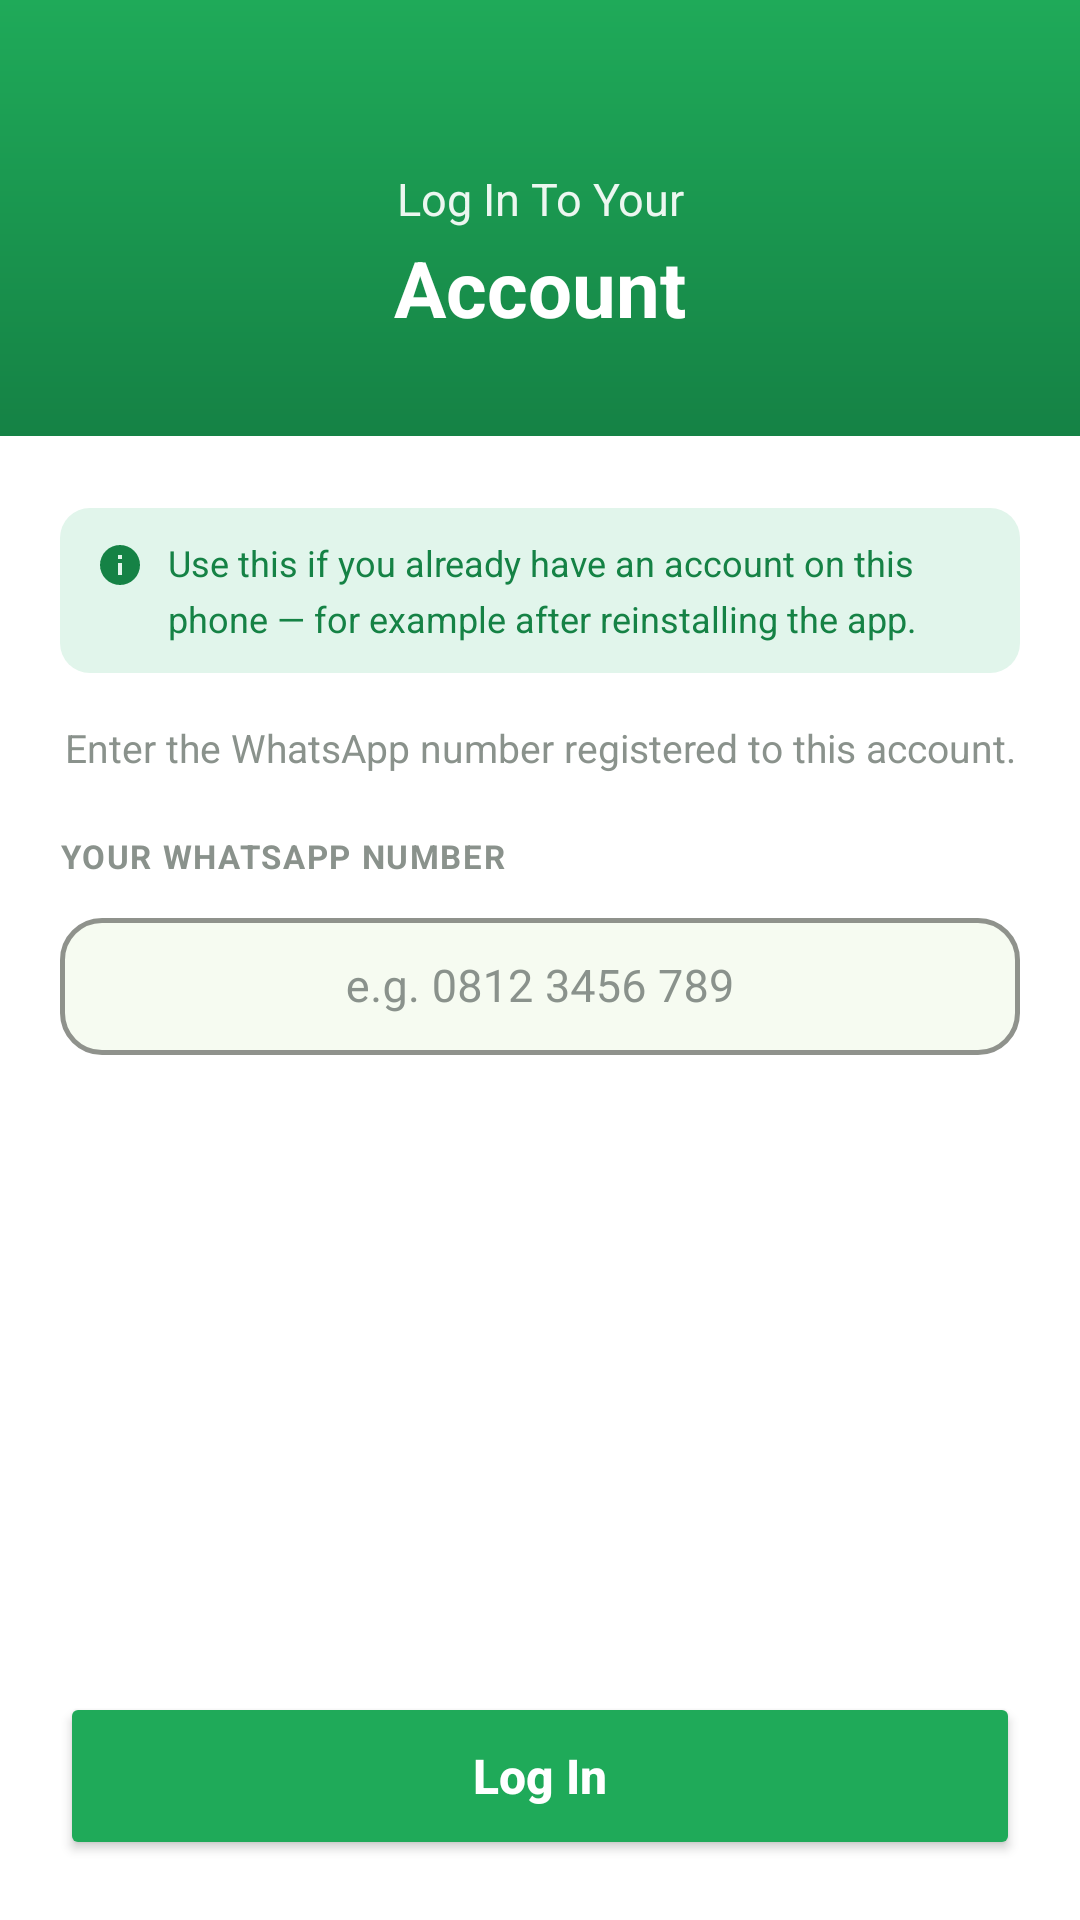

Named icons in this screenshot (1080*1920) and their bounding boxes, (x1, y1, x2, y2):
info: (100, 545, 140, 585)
